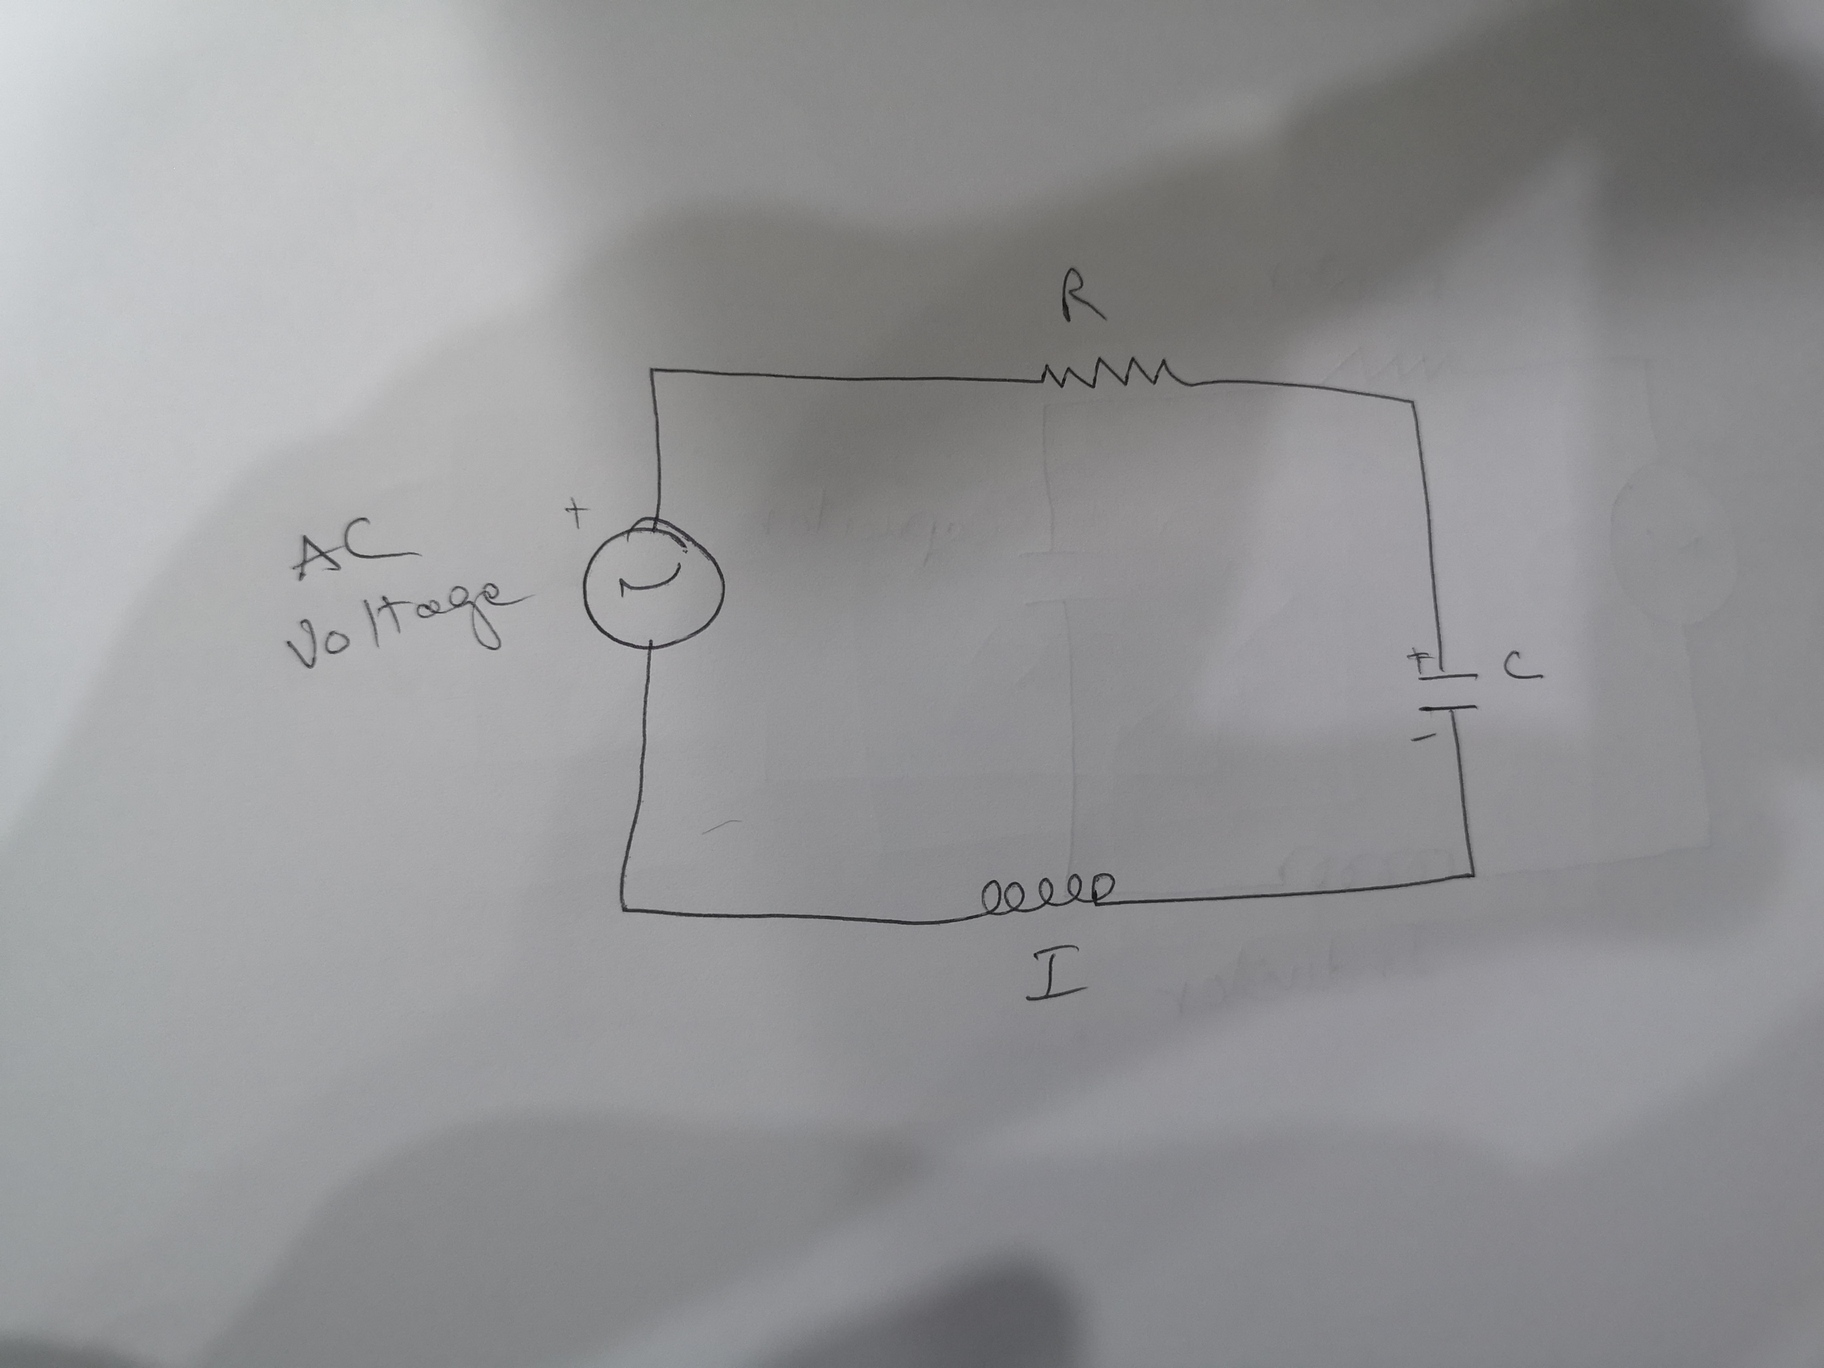capacitor.polarized: (1402, 639, 1482, 747)
inductor: (977, 868, 1120, 923)
junction: (1393, 385, 1428, 420), (1456, 859, 1485, 888), (609, 894, 638, 921), (641, 355, 668, 384)
resistor: (1033, 353, 1191, 397)
text: (280, 575, 536, 677), (287, 512, 432, 586), (1025, 943, 1096, 1004), (1056, 262, 1115, 329), (1502, 647, 1545, 685)
voltage.dc: (560, 491, 731, 657)
